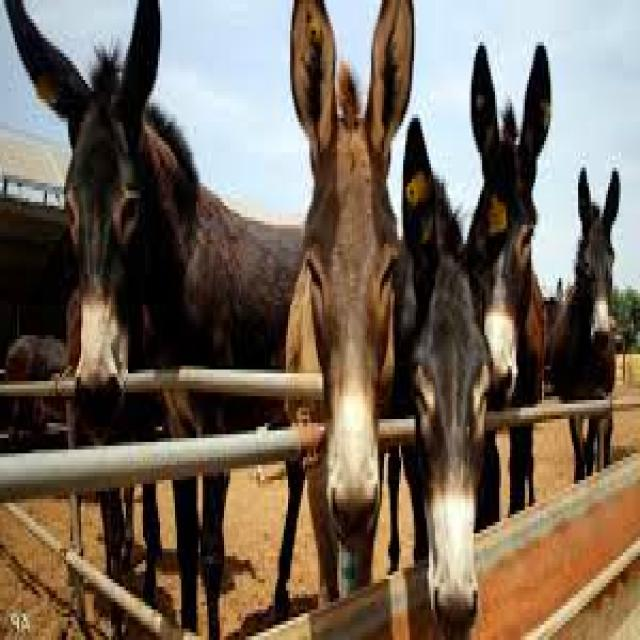donkey: (6, 0, 303, 636), (399, 118, 512, 621), (474, 42, 550, 510), (550, 168, 619, 476)
